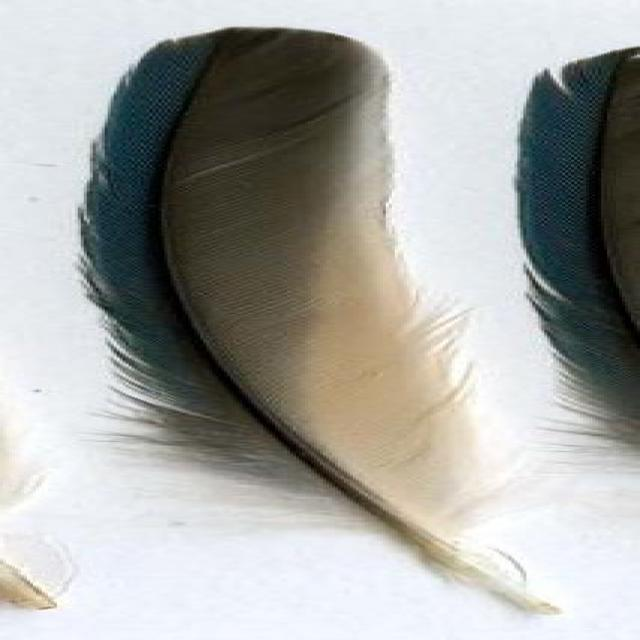feather: (81, 23, 573, 612)
